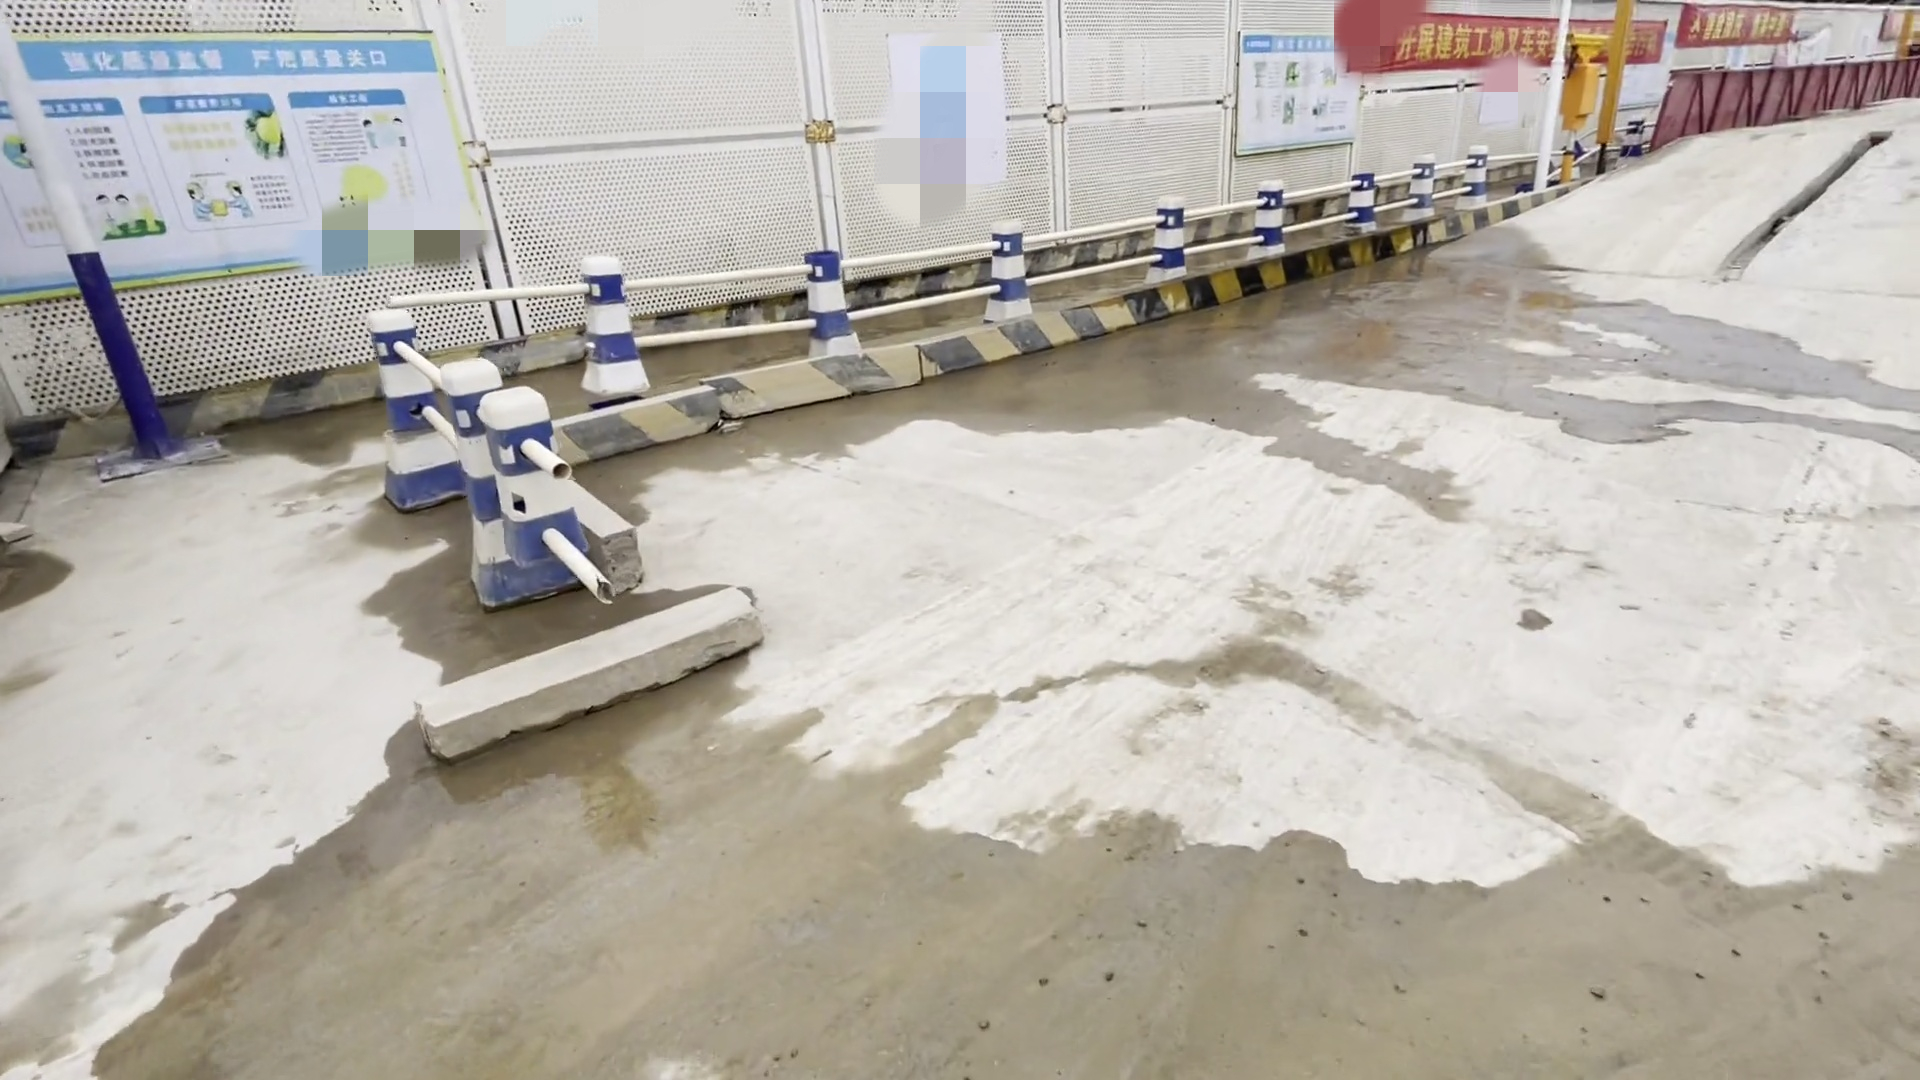fence: (1630, 55, 1920, 148)
slogan: (34, 46, 488, 307), (1342, 7, 1815, 66), (1212, 16, 1356, 162)
